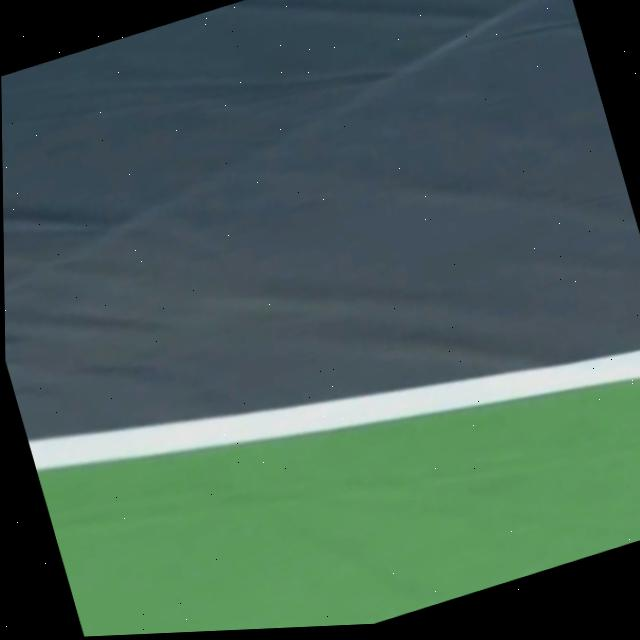right: (27, 348, 640, 468)
